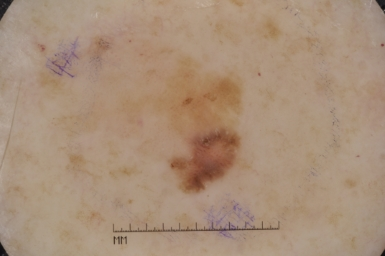seborrheic keratosis: (137, 47, 261, 211)
